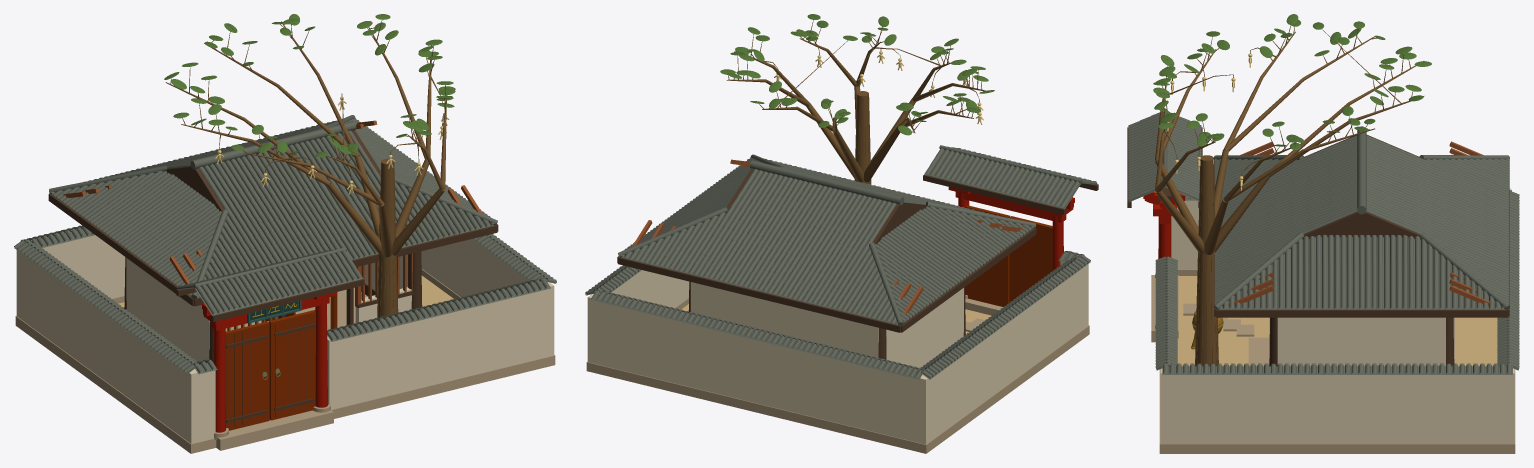
Rendered from xy_wuzhuangguan.glb.
The picture shows the model from 3 angles, left to right: view 1: azimuth 30°, elevation 25°; view 2: azimuth 150°, elevation 25°; view 3: azimuth 270°, elevation 25°; orthographic projection. The views are drawn at different scales.
Visible parts, largest first — view 1: xy_wuzhuangguan; view 2: xy_wuzhuangguan; view 3: xy_wuzhuangguan.
Boxes of the visible parts, x1,y1,x2,y2 form: xy_wuzhuangguan: (14,14,556,453); xy_wuzhuangguan: (585,14,1098,453); xy_wuzhuangguan: (1127,14,1519,453).
Bounding box in the file's own units: 17 × 14.53 × 15.33.
